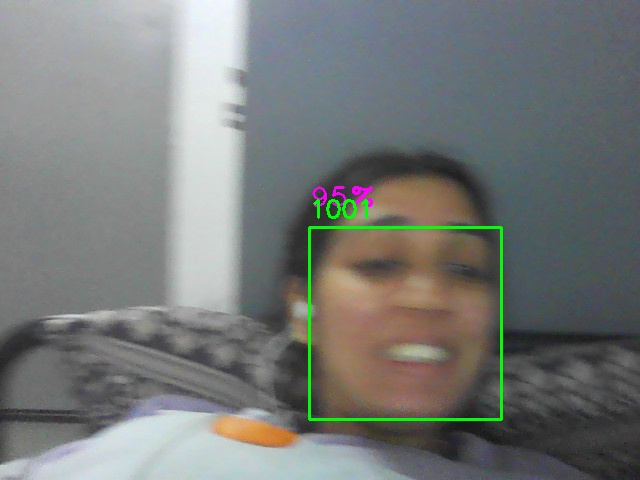real: (309, 227, 502, 420)
